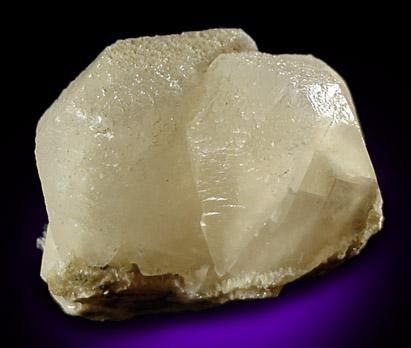calcite: (35, 29, 383, 300)
